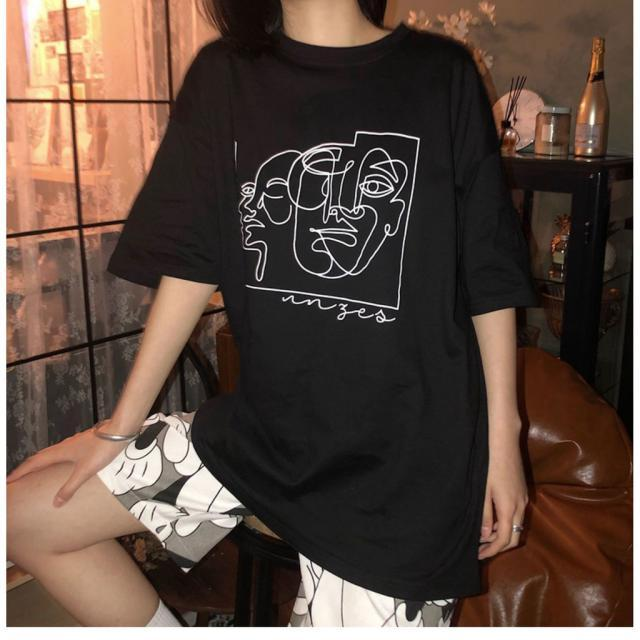Shirt: (105, 9, 542, 606)
